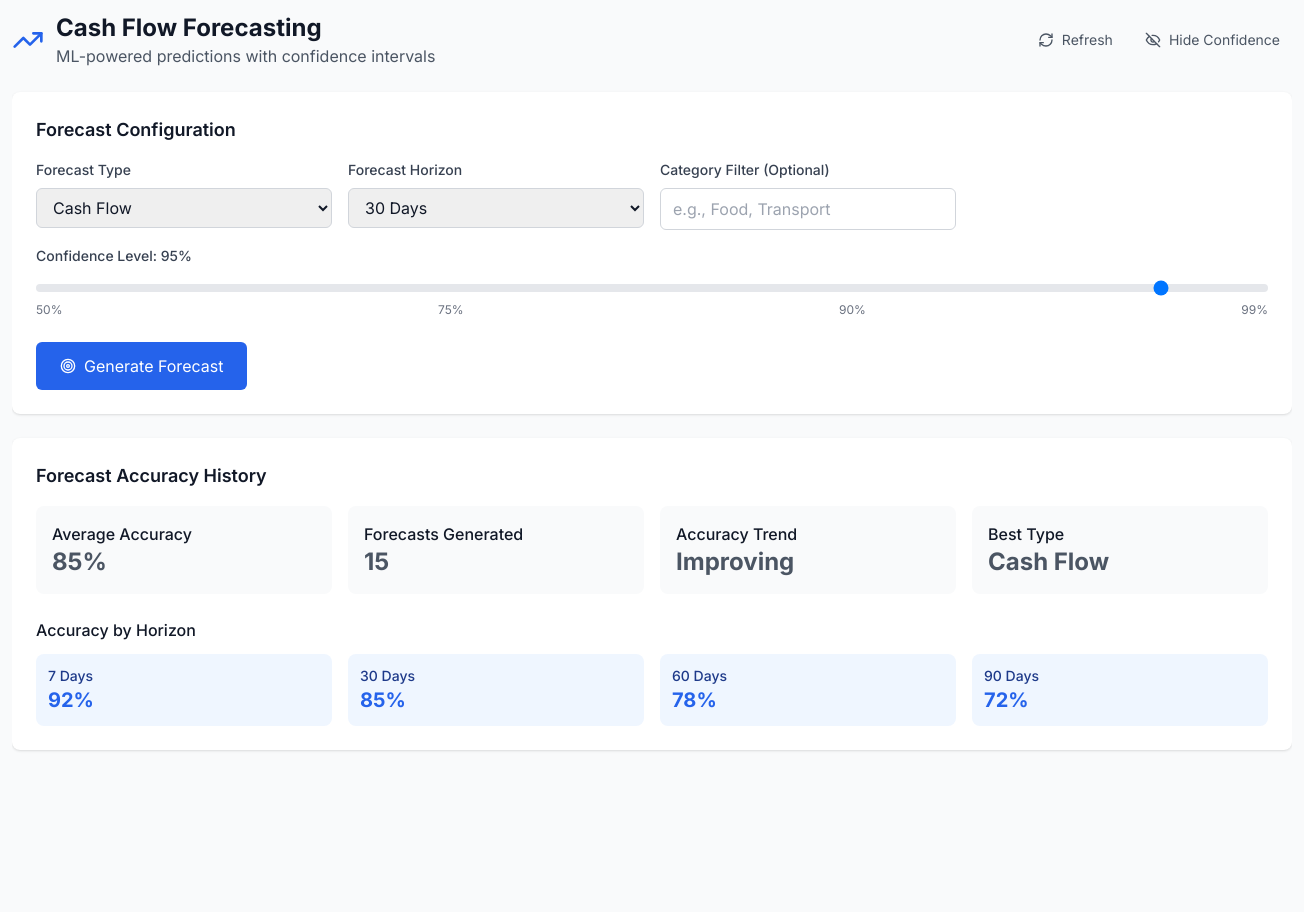
Test case: ForecastingDashboard › shows custom days input when custom horizon is selected
Select "Custom" in the dropdown labelled "Forecast Horizon" at {"x": 496, "y": 208}, box [348, 188, 644, 228]
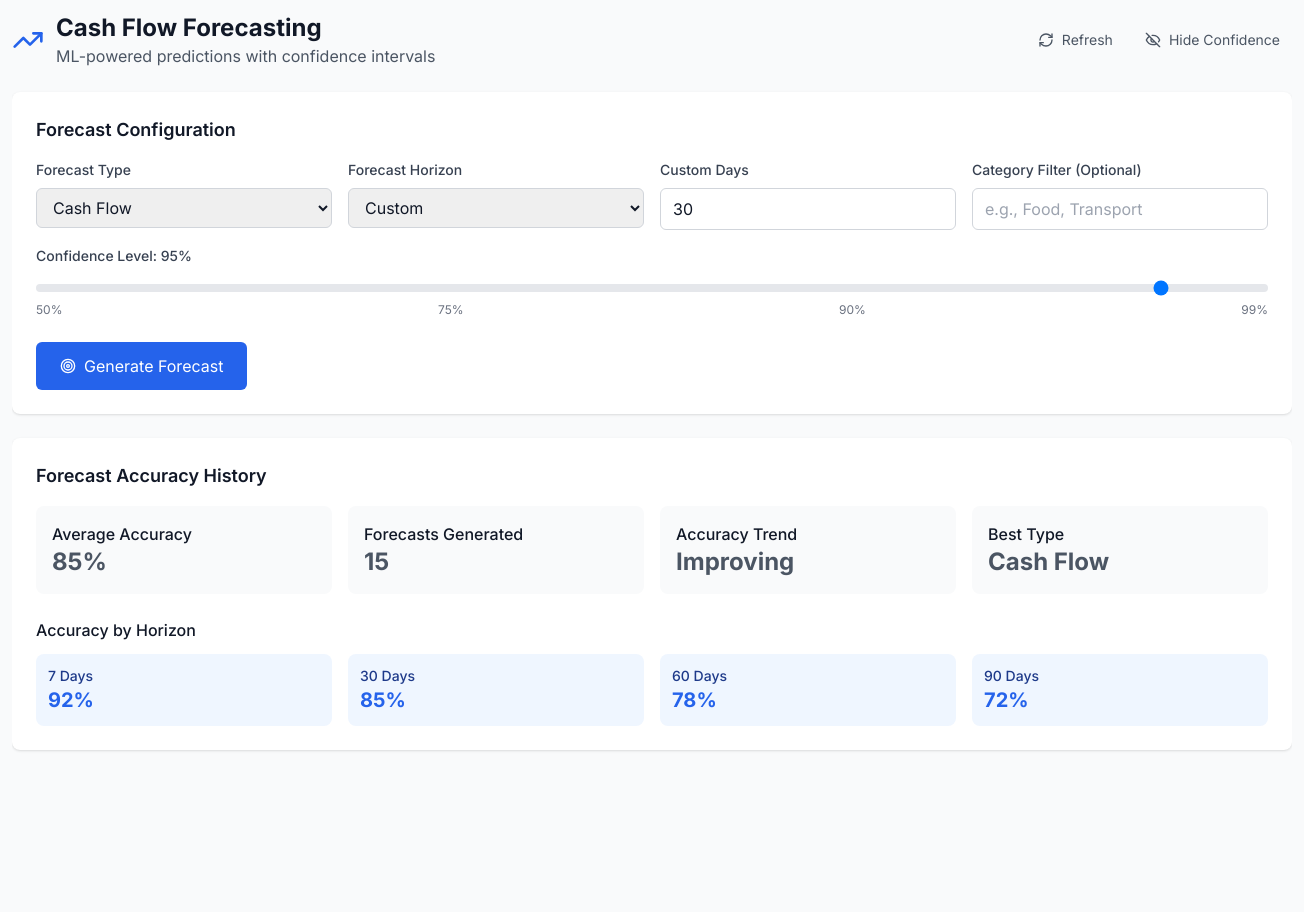
Result: the number field showing "30" is shown at [660, 188, 956, 230]
